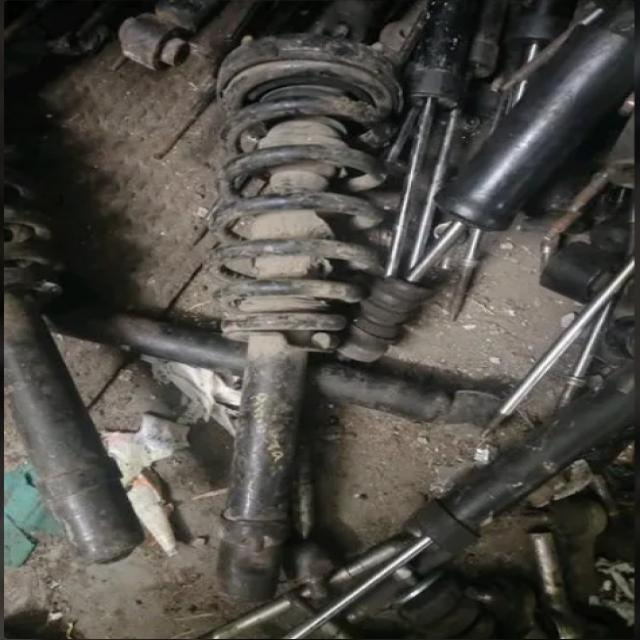shock absorber: (199, 31, 405, 602), (338, 1, 637, 363), (279, 363, 638, 639)
